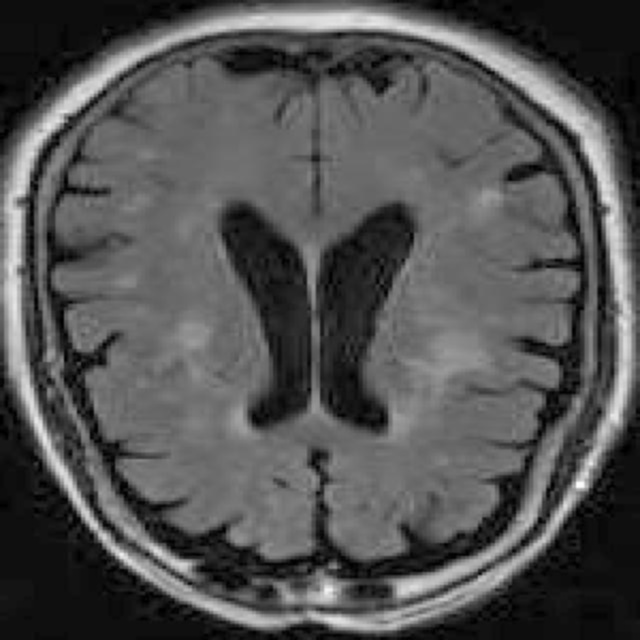glioma tumor: (68, 91, 529, 559)
